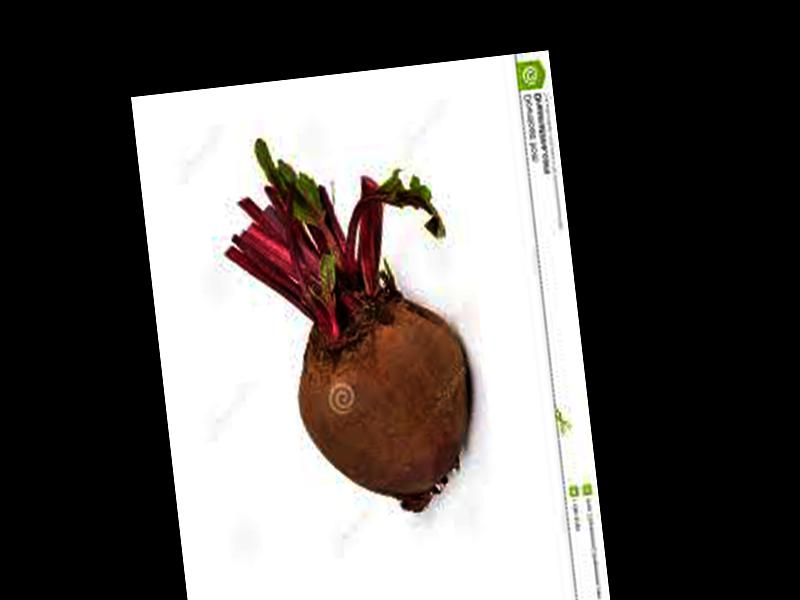Beet: (215, 121, 480, 530)
